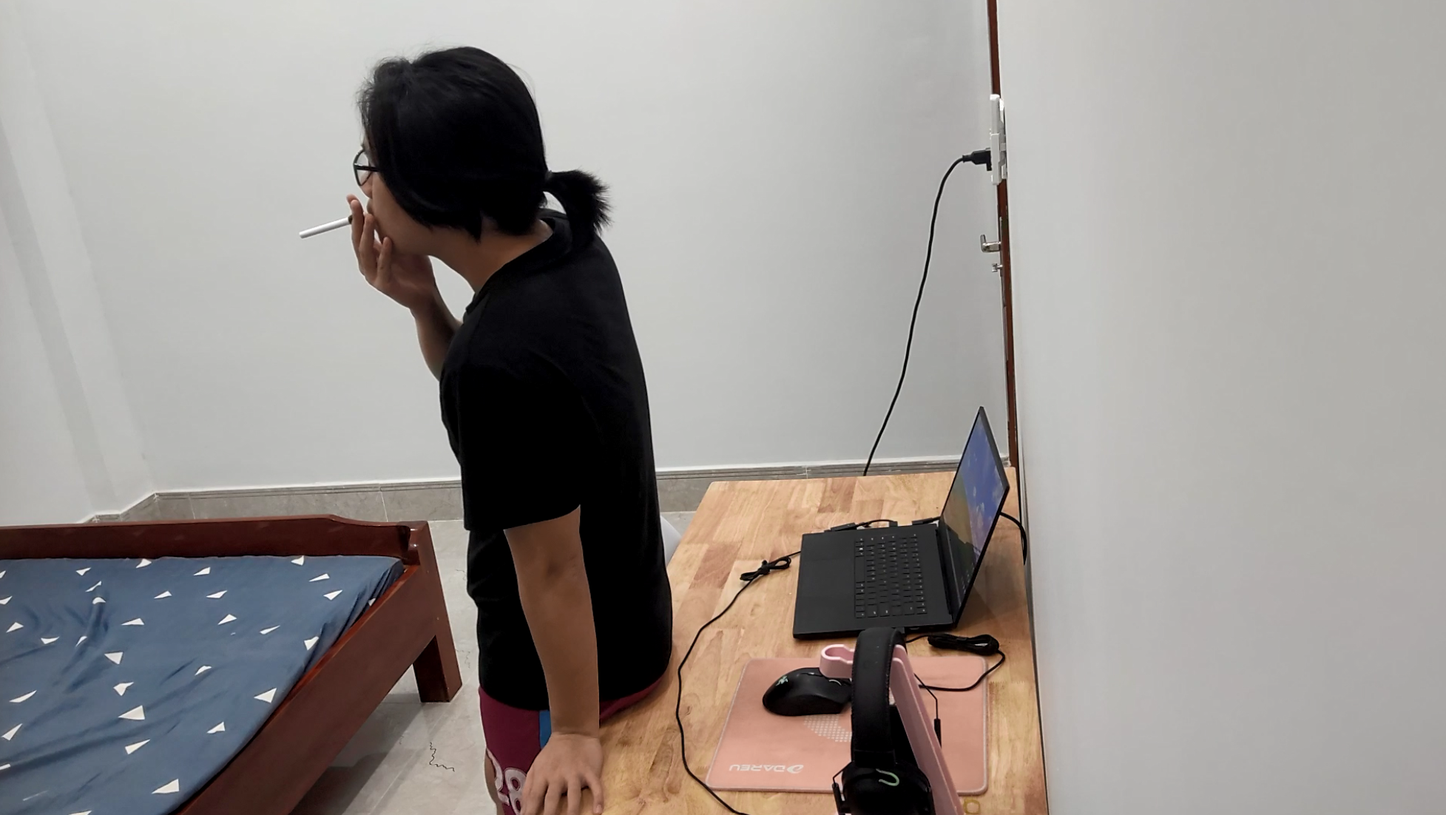cigarette: (297, 209, 360, 243)
person: (328, 0, 677, 815)
